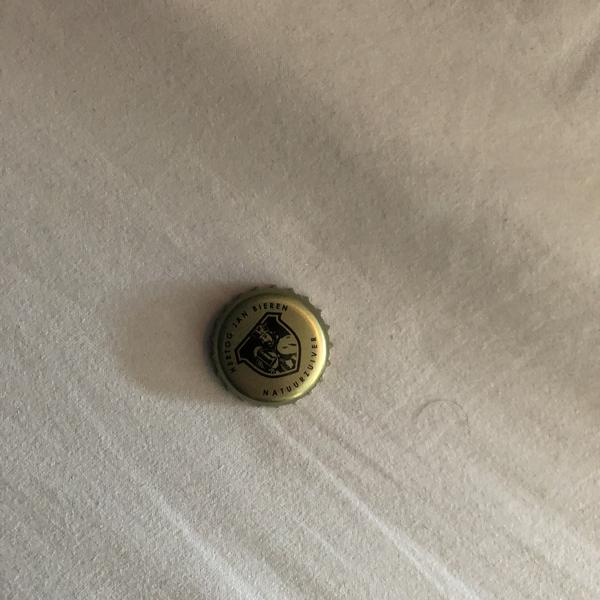hertogjan: (209, 286, 331, 409)
